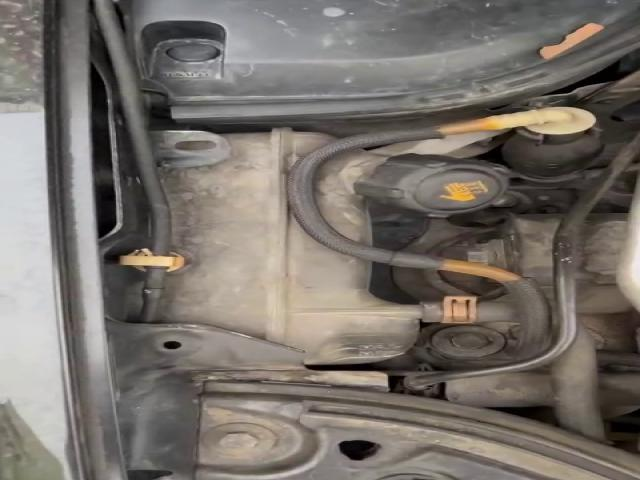antifreeze_tank: (163, 129, 422, 364), (318, 150, 508, 241)
